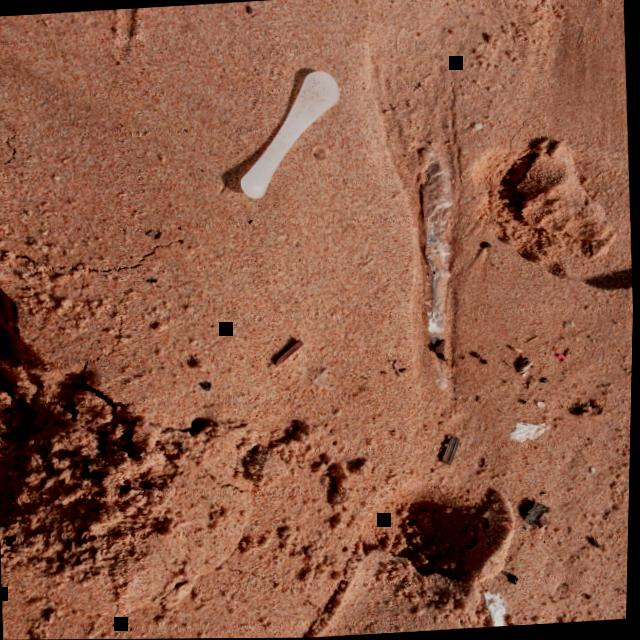Other plastic bottle: (241, 72, 339, 199)
Plastic film: (422, 151, 451, 390), (485, 593, 509, 628), (512, 423, 551, 444)
Unlabeled litter: (539, 403, 546, 409), (557, 356, 567, 360)
